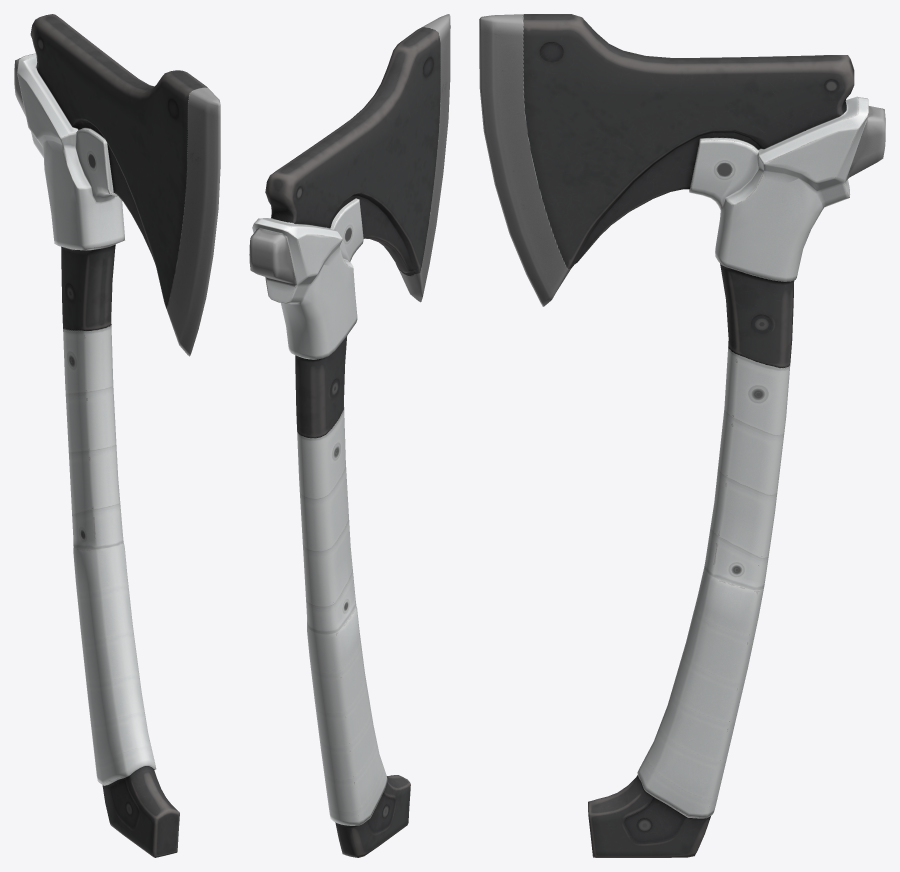
Rendered from MeleeAxe01.FBX.
3 renders of one model, left to right at view 1: azimuth 30°, elevation 25°; view 2: azimuth 150°, elevation 25°; view 3: azimuth 270°, elevation 25°, orthographic. The views are drawn at different scales.
Parts seen in each view (by area): view 1: MeleeAxe01; view 2: MeleeAxe01; view 3: MeleeAxe01.
Boxes of the visible parts, bbox=[...] form: MeleeAxe01: bbox=[14, 14, 220, 857]; MeleeAxe01: bbox=[249, 14, 450, 857]; MeleeAxe01: bbox=[479, 14, 885, 857].
Size of what is drawn, in the model's own units: 0.0426 by 0.6486 by 0.2861.
